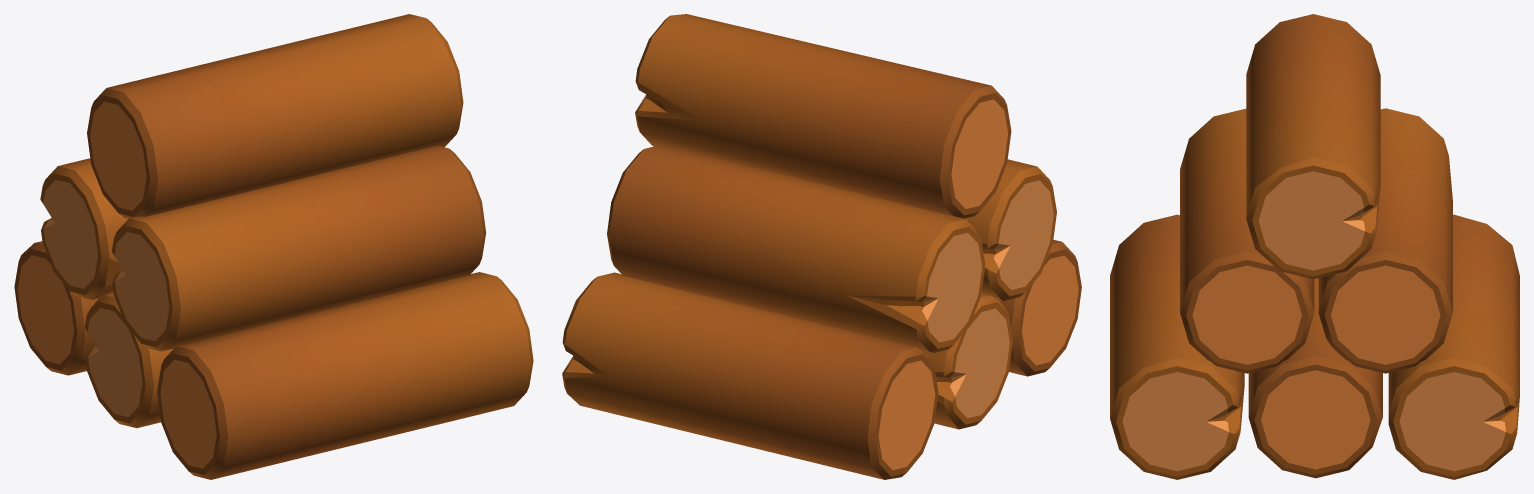
Rendered from Firewood_04.fbx.
The picture shows the model from 3 angles, left to right: view 1: azimuth 30°, elevation 25°; view 2: azimuth 150°, elevation 25°; view 3: azimuth 270°, elevation 25°; orthographic projection. The views are drawn at different scales.
Visible parts, largest first — view 1: Firewood_04; view 2: Firewood_04; view 3: Firewood_04.
Part boxes in pixels (box(x1,y1,x2,y2)): Firewood_04: box(14, 14, 533, 479); Firewood_04: box(562, 14, 1081, 479); Firewood_04: box(1110, 14, 1519, 479).
Size of the model in its own units: 124 by 121 by 140.
